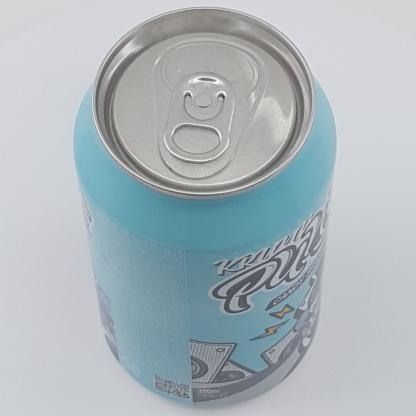-----------------350ML: (73, 7, 336, 406)
